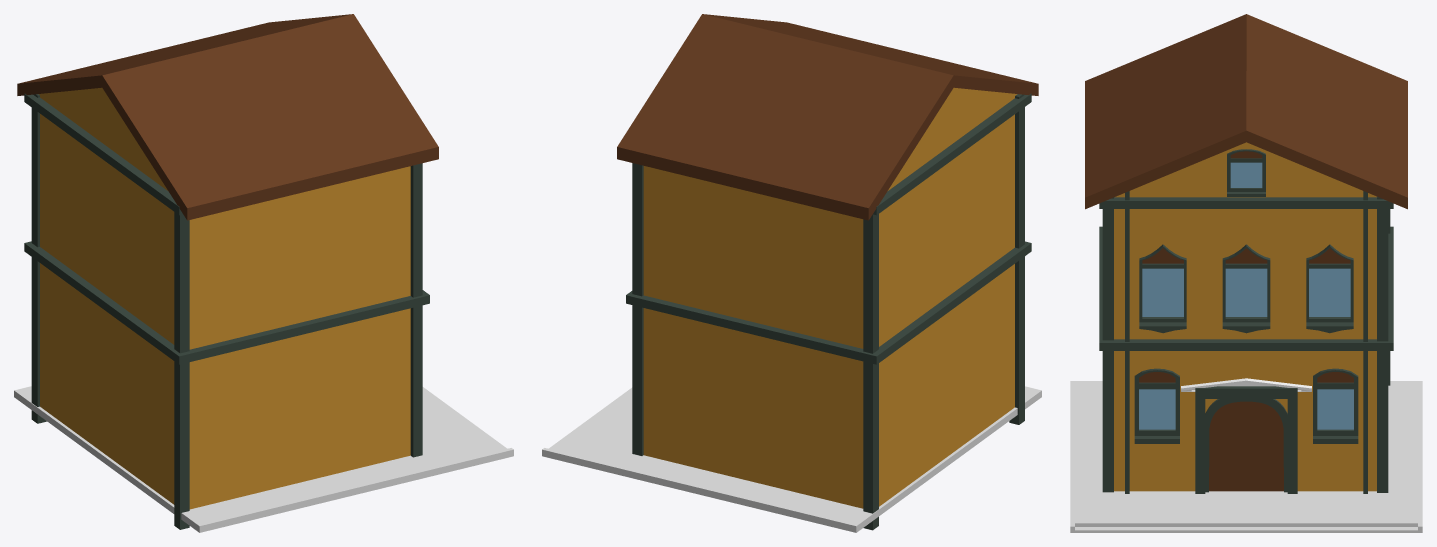
The model's file is apartment1.dae.
The picture shows the model from 3 angles, left to right: view 1: azimuth 30°, elevation 25°; view 2: azimuth 150°, elevation 25°; view 3: azimuth 270°, elevation 25°; orthographic projection. The views are drawn at different scales.
Visible parts, largest first — view 1: Cube_015; view 2: Cube_015; view 3: Cube_015.
Part boxes in pixels (bbox=[...]): Cube_015: bbox=[14, 14, 513, 532]; Cube_015: bbox=[542, 14, 1041, 532]; Cube_015: bbox=[1070, 14, 1422, 532].
Size of the model in its own units: 4.97 by 5 by 6.16.
